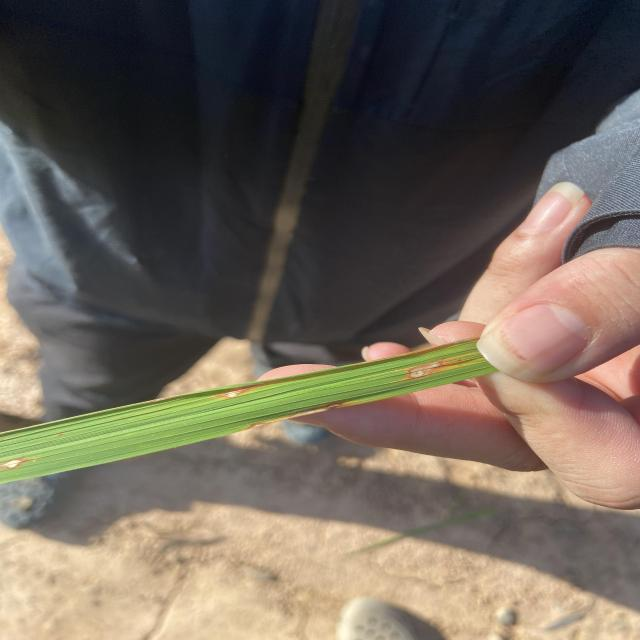Dao on: (278, 402, 347, 420), (407, 359, 446, 378), (214, 385, 257, 398), (1, 460, 32, 469), (246, 423, 270, 430)
